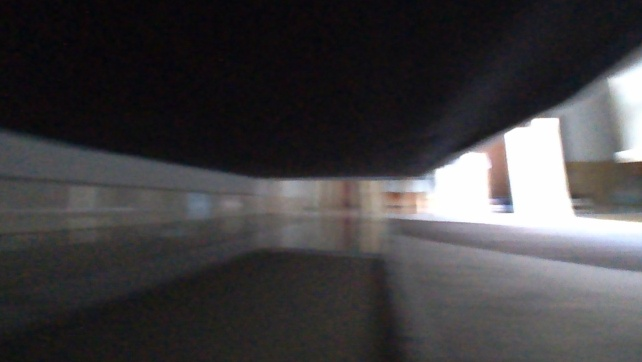blanket: (378, 209, 641, 361)
